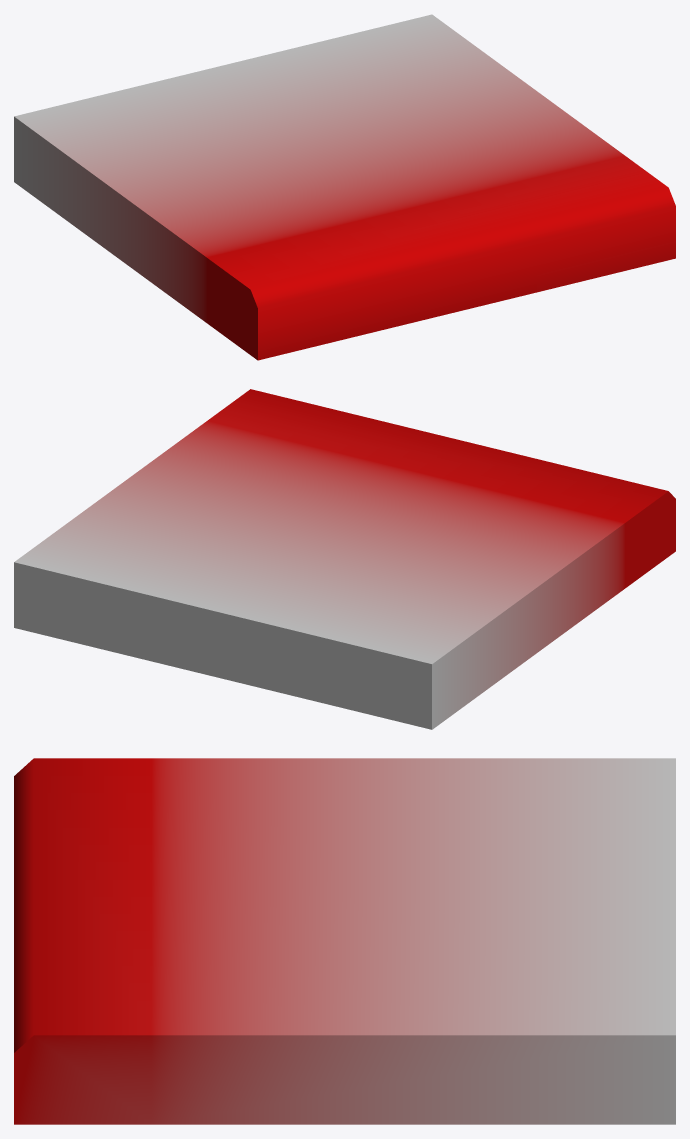
The model's file is Sidewalk_Straight_1m.gltf.
The picture shows the model from 3 angles, top to bottom: view 1: azimuth 30°, elevation 25°; view 2: azimuth 150°, elevation 25°; view 3: azimuth 270°, elevation 25°; orthographic projection. The views are drawn at different scales.
Visible parts, largest first — view 1: Sidewalk_Straight_1m; view 2: Sidewalk_Straight_1m; view 3: Sidewalk_Straight_1m.
Boxes of the visible parts, bbox=[...] form: Sidewalk_Straight_1m: bbox=[14, 14, 675, 360]; Sidewalk_Straight_1m: bbox=[14, 389, 675, 729]; Sidewalk_Straight_1m: bbox=[14, 758, 675, 1124].
Size of what is drawn, in the model's own units: 1 by 0.15 by 1.01.
